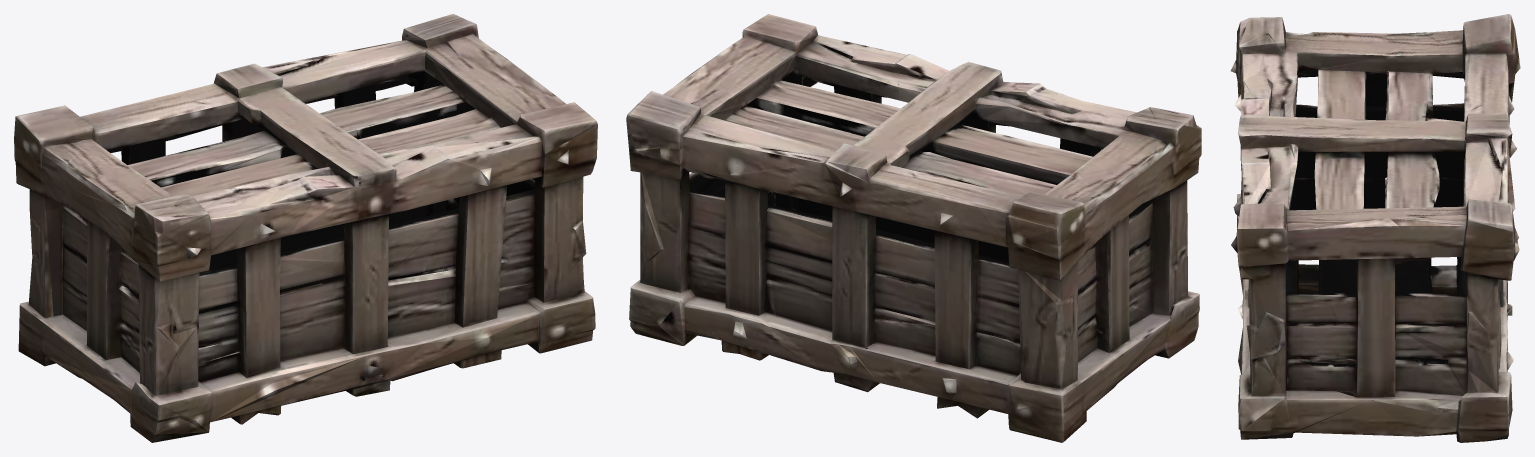
Rendered from prop_wood_crate_broken_01.glb.
3 views of the same model, side by side, from view 1: azimuth 30°, elevation 25°; view 2: azimuth 150°, elevation 25°; view 3: azimuth 270°, elevation 25° (orthographic). The views are drawn at different scales.
Visible parts, largest first — view 1: geometry_0; view 2: geometry_0; view 3: geometry_0.
Boxes of the visible parts, x1,y1,x2,y2 form: geometry_0: (14,14,597,442); geometry_0: (626,14,1201,442); geometry_0: (1230,14,1520,442).
Size of the model in its own units: 0.9986 by 0.5222 by 0.5894.
1 material, 1 textured.
